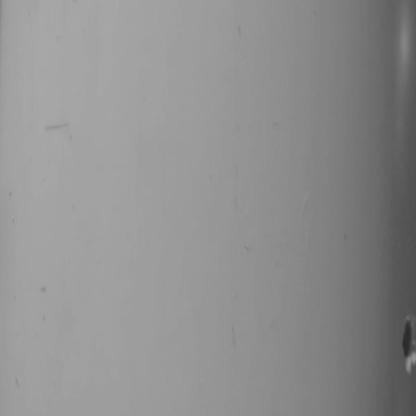kongdong: (390, 300, 415, 374)
